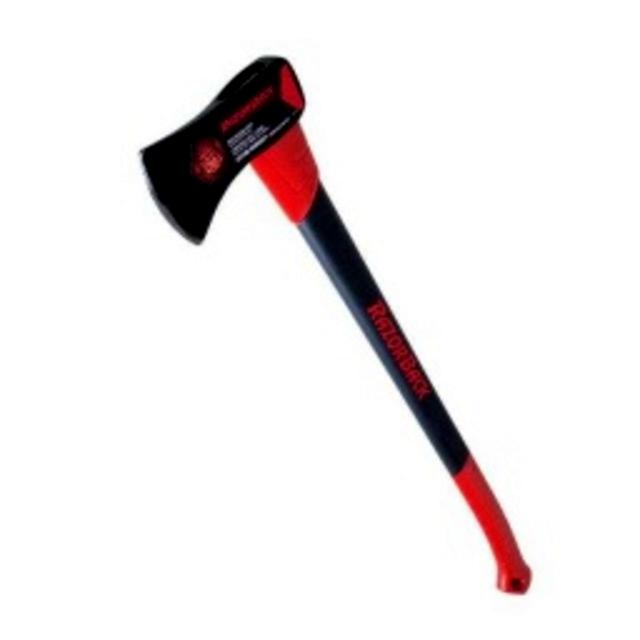ax: (131, 48, 541, 602)
